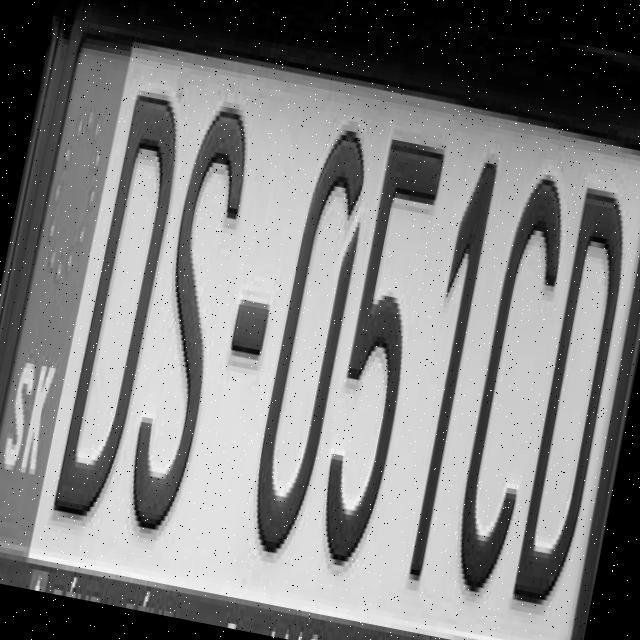EU: (0, 0, 640, 640)
Slovaquie: (0, 30, 130, 573)
